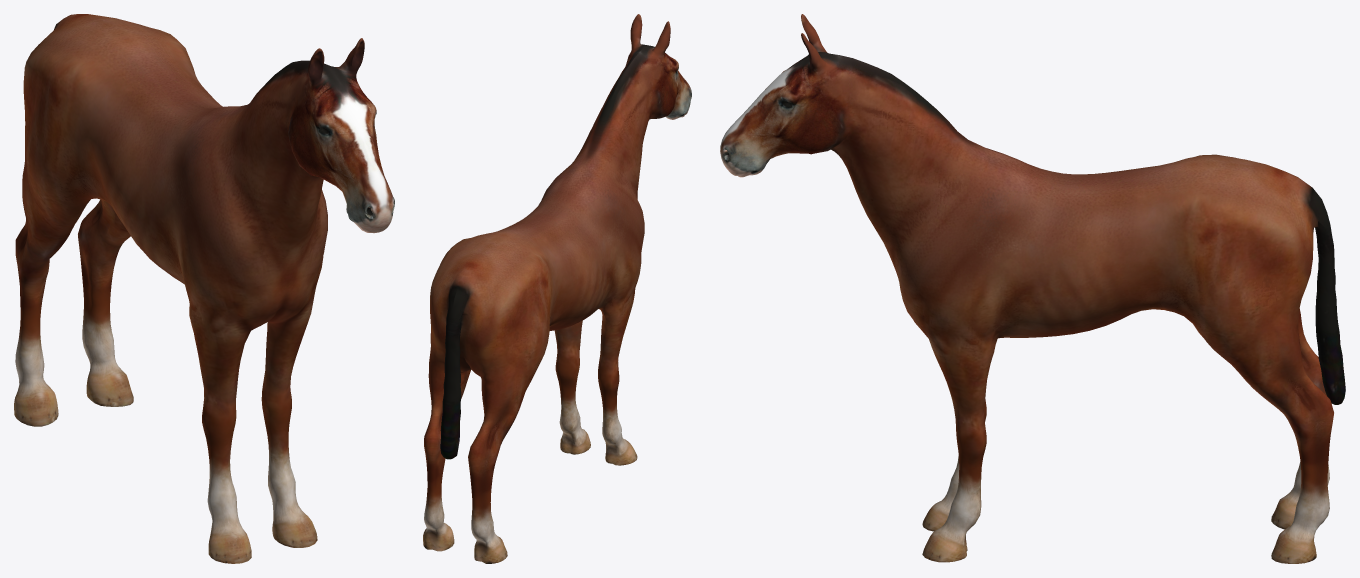
The model's file is horse.glb.
3 renders of one model, left to right at view 1: azimuth 30°, elevation 25°; view 2: azimuth 150°, elevation 25°; view 3: azimuth 270°, elevation 25°, orthographic. The views are drawn at different scales.
Visible parts, largest first — view 1: Object_2; view 2: Object_2; view 3: Object_2.
Part boxes in pixels (x1=…): Object_2: x1=14, y1=14, x2=394, y2=563; Object_2: x1=423, y1=14, x2=691, y2=563; Object_2: x1=720, y1=14, x2=1345, y2=563.
Size of the model in its own units: 6.81 by 24.53 by 26.95.
Materials: 1 (1 with a texture image).
